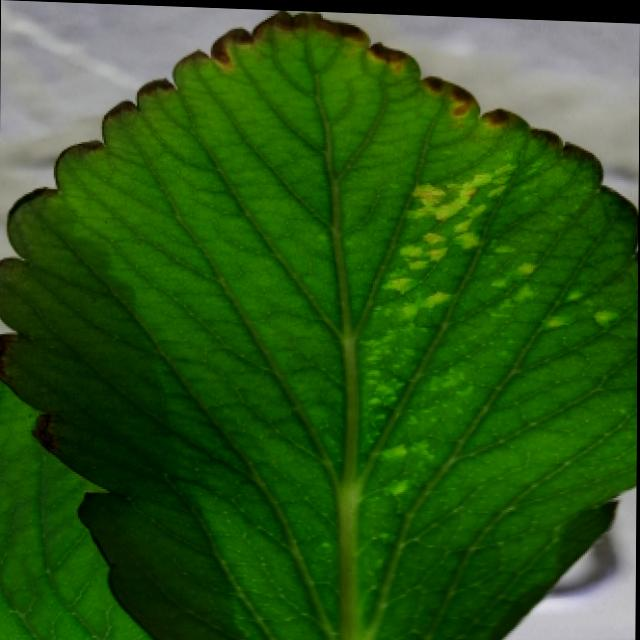Angular Leafspot: (355, 139, 638, 506)
